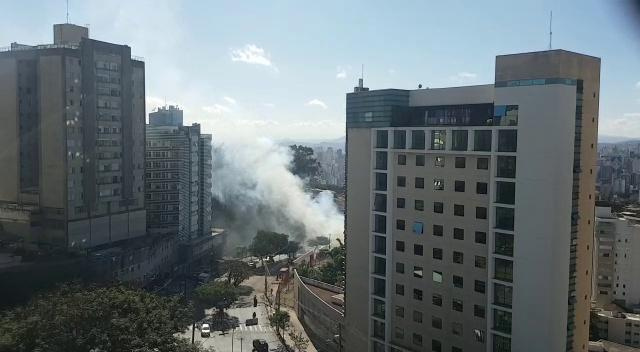smoke: (247, 146, 290, 195), (295, 193, 337, 226)
